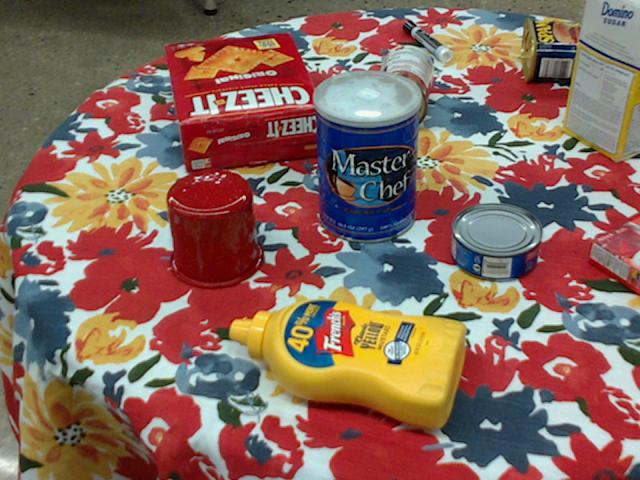cracker_box: (167, 33, 326, 170)
gelatin_box: (588, 217, 639, 295)
large_marker: (404, 19, 452, 61)
master_chef_can: (312, 69, 420, 243)
mug: (165, 168, 264, 288)
mustard_bottle: (230, 297, 468, 427)
potted_meat_can: (521, 16, 596, 80)
sugar_box: (561, 0, 639, 163)
tomato_soup_can: (371, 43, 432, 130)
tuna_fish_can: (452, 203, 543, 281)
